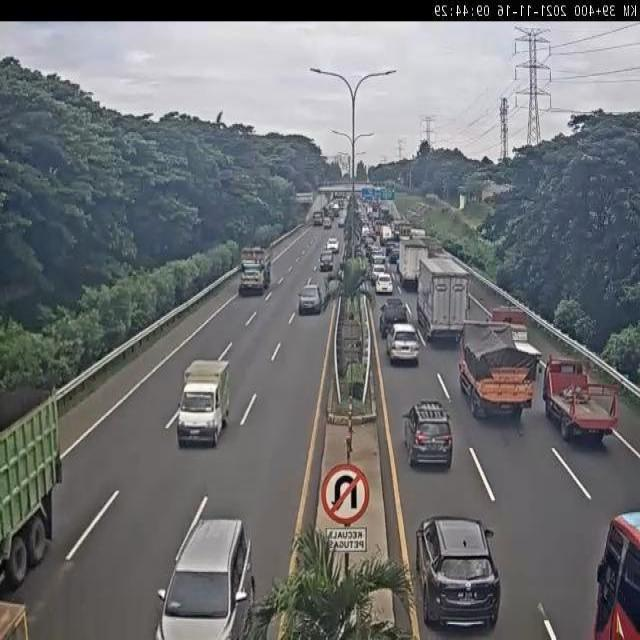Car: (154, 516, 254, 638), (415, 515, 500, 632), (590, 511, 640, 639), (402, 401, 454, 469), (386, 322, 421, 366), (378, 298, 409, 339), (298, 283, 324, 315), (374, 272, 394, 296), (371, 262, 386, 284), (319, 252, 334, 272), (327, 237, 339, 253), (639, 115, 640, 121)
Truck: (0, 378, 59, 585), (460, 322, 539, 420), (543, 356, 619, 444), (176, 357, 231, 448), (419, 259, 470, 348), (238, 244, 272, 296), (398, 238, 428, 286)
